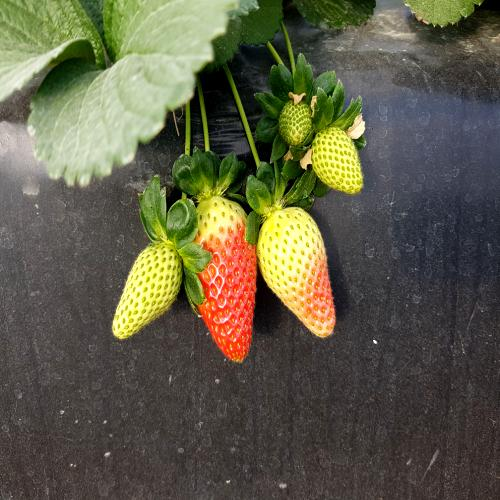partially-ripe: (178, 177, 267, 380), (259, 194, 344, 348)
unripe: (108, 215, 185, 346), (302, 108, 378, 212)
